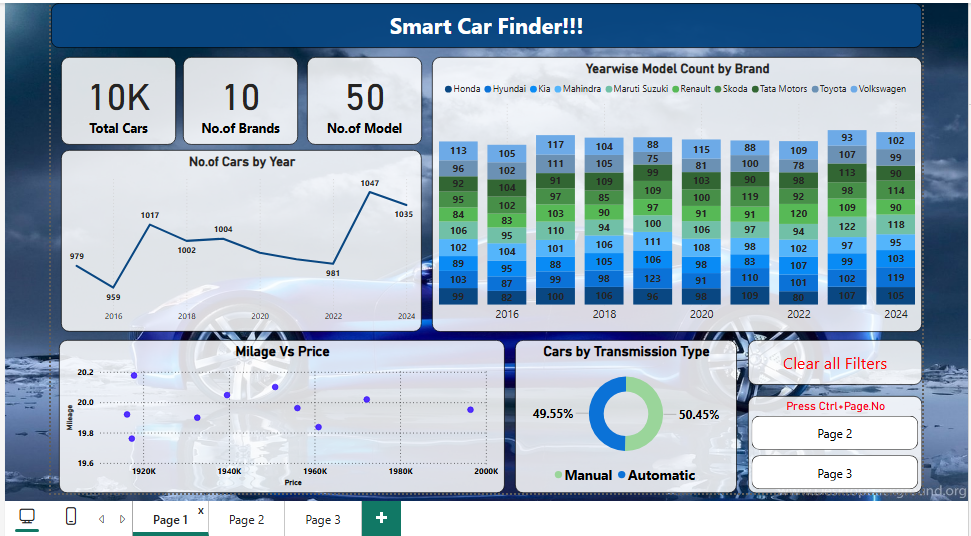

This screenshot's page, from the dashboard's own definition file:
{"tool":"powerbi","page":{"name":"Page 1","canvas":[1280,720],"ordinal":0},"visuals":[{"type":"card","title":"Total Cars","fields":{"Values":["CountNonNull(car_dataset_india_rawdata.Car_ID)"]},"box":[14.7,79.3,169,129.3],"z":0},{"type":"card","title":"Total Cars","fields":{"Values":["Count(car_dataset_india_rawdata.Brand)"]},"box":[194,79.3,169,129.3],"z":1000},{"type":"card","title":"Total Cars","fields":{"Values":["Count(car_dataset_india_rawdata.Model)"]},"box":[376.2,79.3,169,129.3],"z":2000},{"type":"scatterChart","title":"Milage Vs Price","fields":{"X":["Avg(car_dataset_india_rawdata.Price)"],"Y":["Avg(car_dataset_india_rawdata.Mileage)"],"Category":["car_dataset_india_rawdata.Brand"]},"box":[11.8,495.2,655.3,224.8],"z":3000},{"type":"pageNavigator","title":"Press Ctrl+Page.No","box":[1024.2,577.5,255.7,142.5],"z":4000},{"type":"textbox","box":[0,0,1279.8,66.1],"z":5000},{"type":"donutChart","title":"Cars by Transmission Type","fields":{"Y":["CountNonNull(car_dataset_india_rawdata.Car_ID)"],"Category":["car_dataset_india_rawdata.Transmission"]},"box":[681.8,495.2,326.2,224.8],"z":6000},{"type":"lineChart","title":"No.of Cars by Year","fields":{"Category":["car_dataset_india_rawdata.Year"],"Y":["CountNonNull(car_dataset_india_rawdata.Model)"]},"box":[14.7,216,530.4,267.4],"z":7000},{"type":"columnChart","title":"Yearwise Model Count by Brand","fields":{"Category":["car_dataset_india_rawdata.Year"],"Y":["CountNonNull(car_dataset_india_rawdata.Model)"],"Series":["car_dataset_india_rawdata.Brand"]},"box":[559.8,79.3,720,404.1],"z":8000},{"type":"actionButton","box":[1023.6,494.8,256.4,66.3],"z":19000}]}

Visuals, with their boxes on the page's 1280x720 design canvas (x1, y1, x2, y2). These are canvas units, not pixel positions in the 971x536 screenshot, which may show the page scaled, cropped or inside an application window:
"Total Cars" card: {"x1": 15, "y1": 79, "x2": 184, "y2": 209}
"Total Cars" card: {"x1": 194, "y1": 79, "x2": 363, "y2": 209}
"Total Cars" card: {"x1": 376, "y1": 79, "x2": 545, "y2": 209}
"Milage Vs Price" scatterChart: {"x1": 12, "y1": 495, "x2": 667, "y2": 720}
"Press Ctrl+Page.No" pageNavigator: {"x1": 1024, "y1": 578, "x2": 1280, "y2": 720}
textbox: {"x1": 0, "y1": 0, "x2": 1280, "y2": 66}
"Cars by Transmission Type" donutChart: {"x1": 682, "y1": 495, "x2": 1008, "y2": 720}
"No.of Cars by Year" lineChart: {"x1": 15, "y1": 216, "x2": 545, "y2": 483}
"Yearwise Model Count by Brand" columnChart: {"x1": 560, "y1": 79, "x2": 1280, "y2": 483}
actionButton: {"x1": 1024, "y1": 495, "x2": 1280, "y2": 561}
